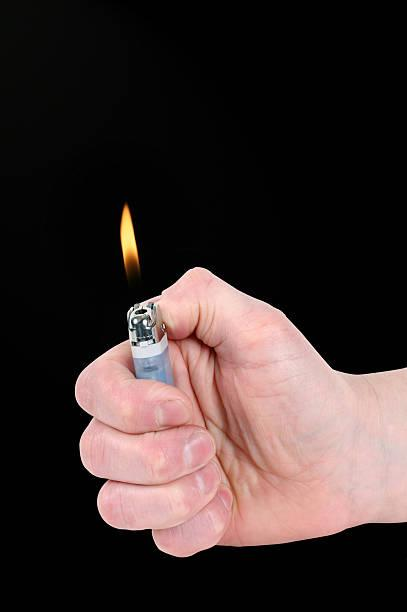Fire: (116, 207, 146, 301)
